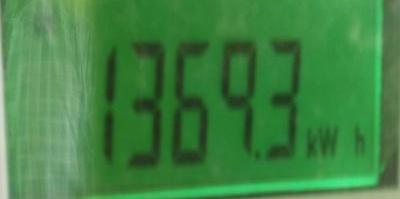.: (306, 124, 371, 160)
0: (254, 145, 262, 161)
2: (102, 46, 119, 167)
4: (125, 39, 163, 169), (263, 41, 305, 153)
7: (171, 38, 214, 163)
:: (215, 39, 260, 158)
